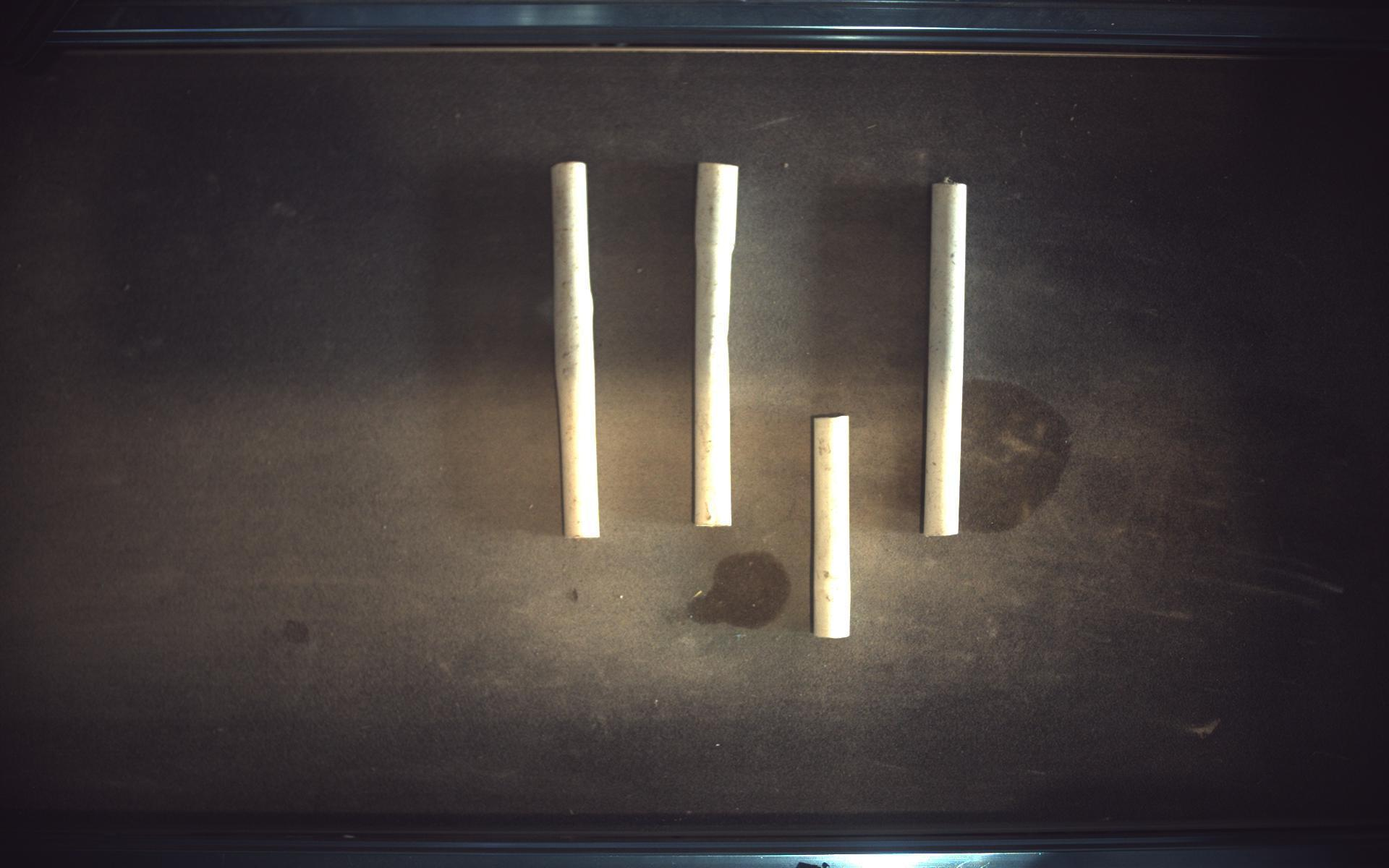pipes: (552, 161, 600, 539), (694, 161, 740, 527), (925, 177, 969, 537), (813, 415, 852, 639)
